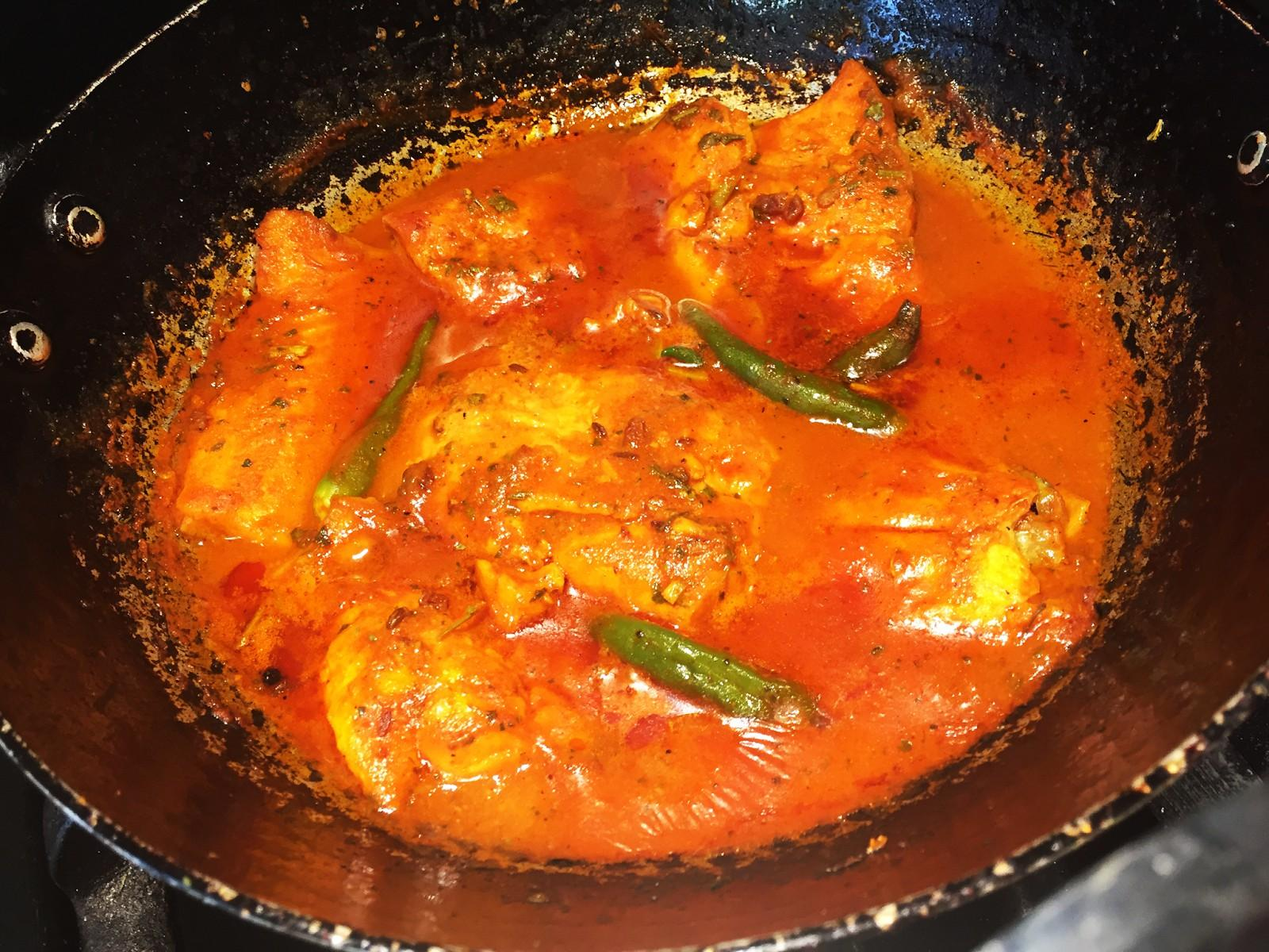FishCurry: (132, 50, 1162, 865)
